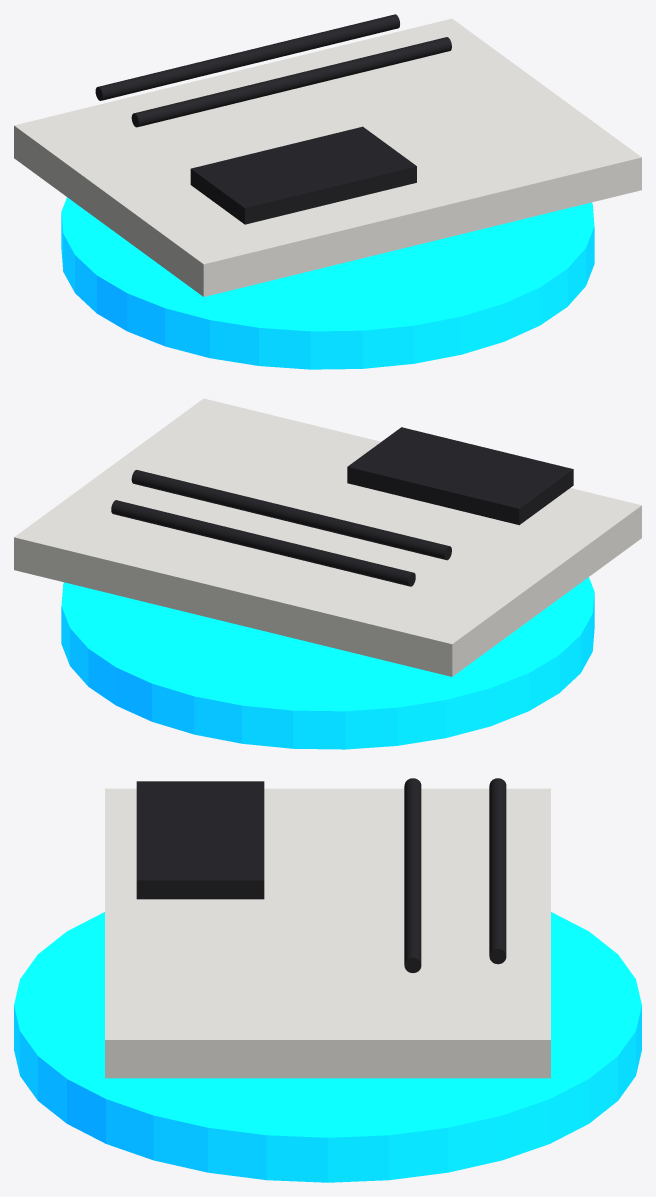
Rendered from news_newspaper.glb.
The picture shows the model from 3 angles, top to bottom: view 1: azimuth 30°, elevation 25°; view 2: azimuth 150°, elevation 25°; view 3: azimuth 270°, elevation 25°; orthographic projection. The views are drawn at different scales.
Visible parts, largest first — view 1: 09_01_Popular_News_Newspaper_part_01, 09_01_Popular_News_Newspaper_ROOT_base, 09_01_Popular_News_Newspaper_part_02, 09_01_Popular_News_Newspaper_part_03, 09_01_Popular_News_Newspaper_part_04; view 2: 09_01_Popular_News_Newspaper_part_01, 09_01_Popular_News_Newspaper_ROOT_base, 09_01_Popular_News_Newspaper_part_02, 09_01_Popular_News_Newspaper_part_03, 09_01_Popular_News_Newspaper_part_04; view 3: 09_01_Popular_News_Newspaper_part_01, 09_01_Popular_News_Newspaper_ROOT_base, 09_01_Popular_News_Newspaper_part_02, 09_01_Popular_News_Newspaper_part_03, 09_01_Popular_News_Newspaper_part_04.
Boxes of the visible parts, x1=… form: 09_01_Popular_News_Newspaper_part_01: x1=14, y1=18, x2=641, y2=296; 09_01_Popular_News_Newspaper_ROOT_base: x1=61, y1=197, x2=594, y2=369; 09_01_Popular_News_Newspaper_part_02: x1=190, y1=126, x2=416, y2=224; 09_01_Popular_News_Newspaper_part_03: x1=131, y1=37, x2=451, y2=127; 09_01_Popular_News_Newspaper_part_04: x1=95, y1=14, x2=399, y2=100; 09_01_Popular_News_Newspaper_part_01: x1=14, y1=398, x2=641, y2=676; 09_01_Popular_News_Newspaper_ROOT_base: x1=61, y1=577, x2=594, y2=749; 09_01_Popular_News_Newspaper_part_02: x1=347, y1=427, x2=573, y2=525; 09_01_Popular_News_Newspaper_part_03: x1=131, y1=470, x2=451, y2=560; 09_01_Popular_News_Newspaper_part_04: x1=111, y1=500, x2=415, y2=586; 09_01_Popular_News_Newspaper_part_01: x1=105, y1=788, x2=550, y2=1078; 09_01_Popular_News_Newspaper_ROOT_base: x1=14, y1=912, x2=641, y2=1182; 09_01_Popular_News_Newspaper_part_02: x1=136, y1=781, x2=264, y2=899; 09_01_Popular_News_Newspaper_part_03: x1=404, y1=778, x2=421, y2=972; 09_01_Popular_News_Newspaper_part_04: x1=489, y1=778, x2=506, y2=964.
Bounding box in the file's own units: 0.76 × 0.2431 × 0.76.
